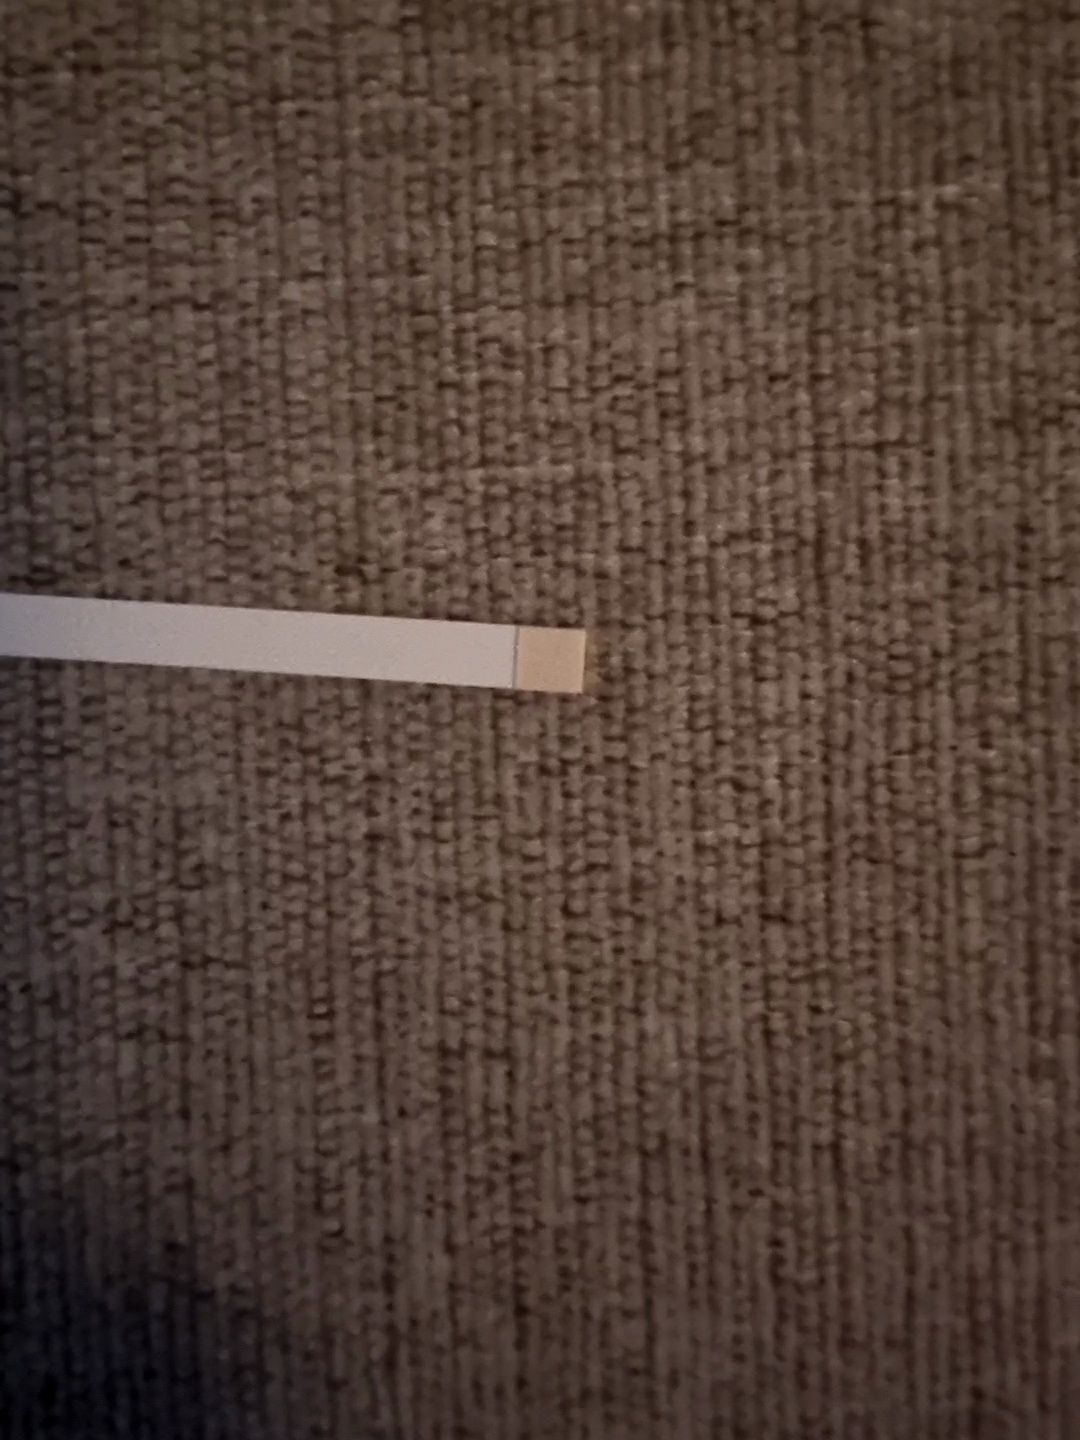keto-tip: (508, 619, 592, 702)
